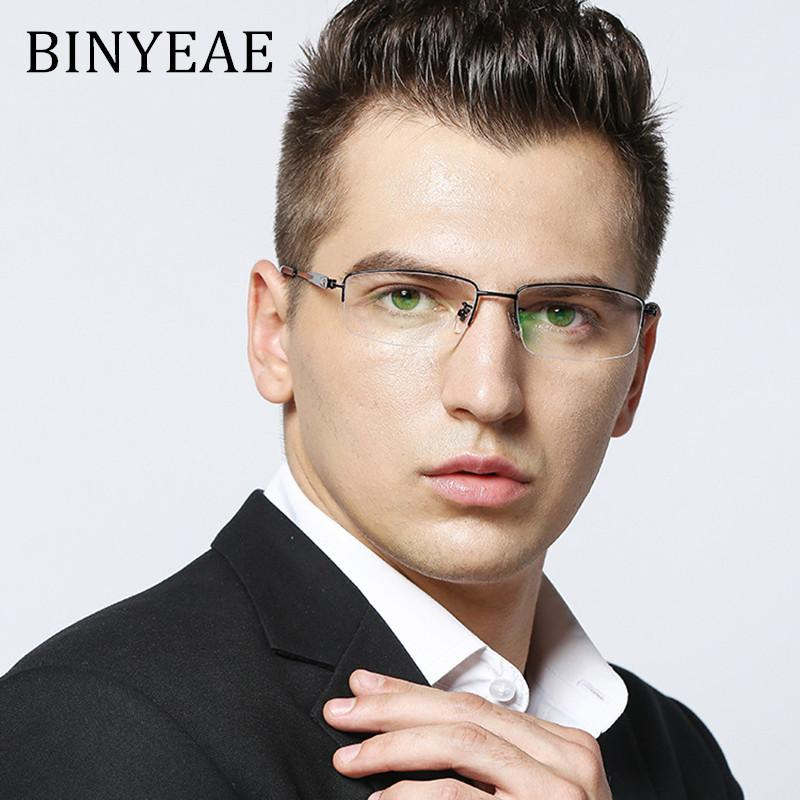llen: (515, 285, 644, 359)
rlen: (342, 271, 478, 347)
